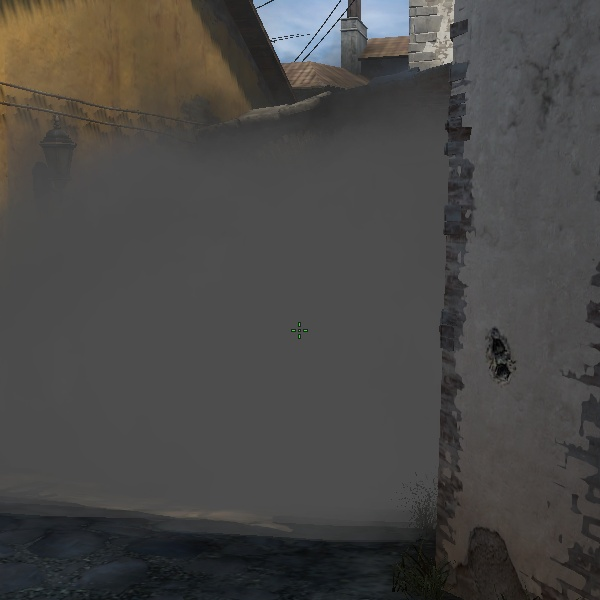ct_body: (487, 325, 512, 379)
